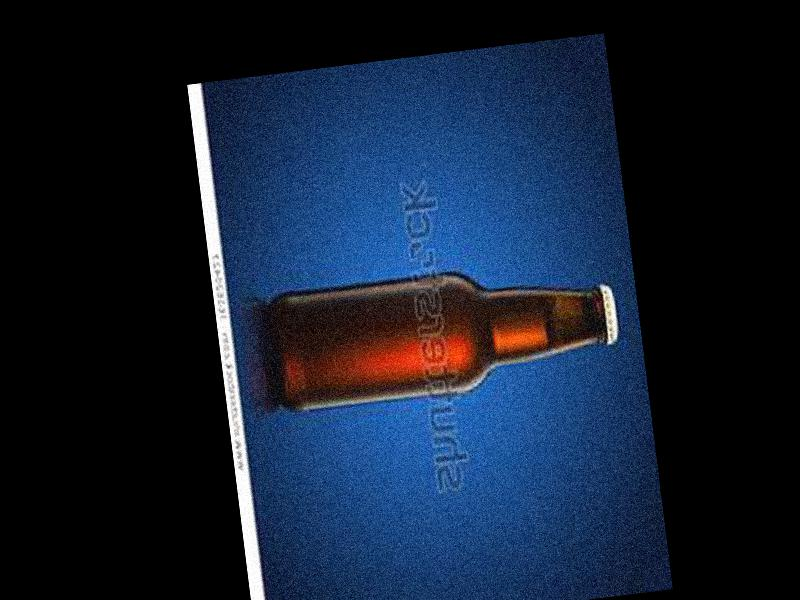Beer: (266, 251, 625, 415)
